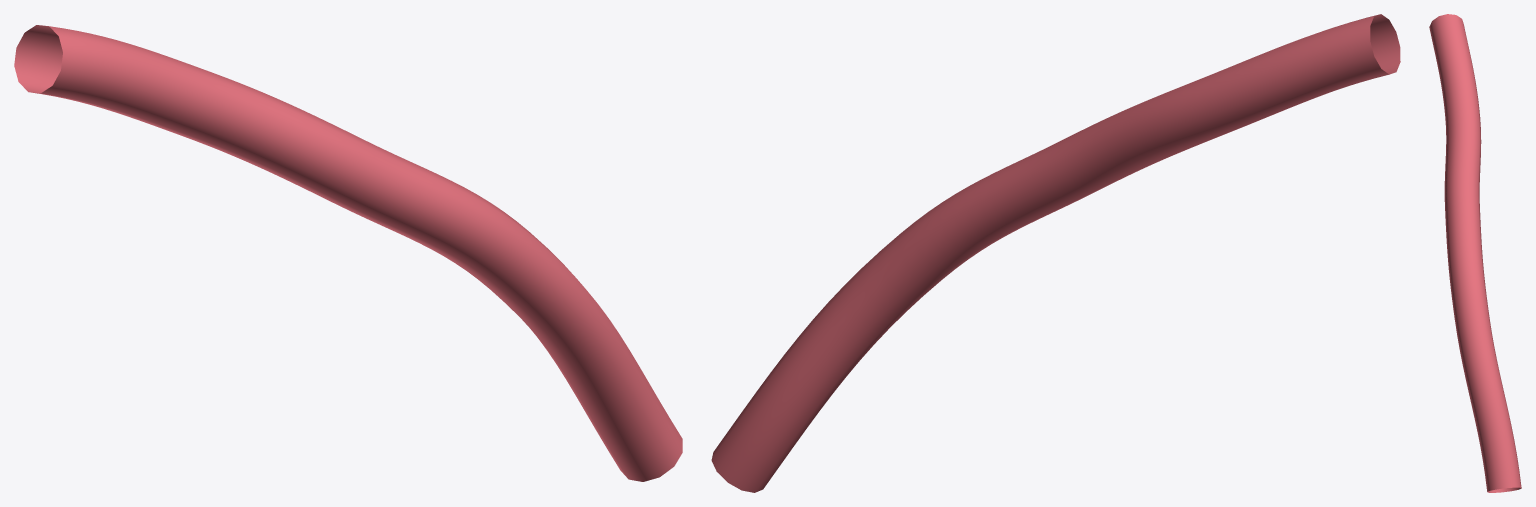
The picture shows the model from 3 angles, left to right: view 1: azimuth 30°, elevation 25°; view 2: azimuth 150°, elevation 25°; view 3: azimuth 270°, elevation 25°; orthographic projection. The views are drawn at different scales.
Visible parts, largest first — view 1: ZA_09b21b7a5bdc1426; view 2: ZA_09b21b7a5bdc1426; view 3: ZA_09b21b7a5bdc1426.
Part boxes in pixels (<box>): ZA_09b21b7a5bdc1426: <box>14,25,682,481</box>; ZA_09b21b7a5bdc1426: <box>711,14,1400,492</box>; ZA_09b21b7a5bdc1426: <box>1429,14,1521,492</box>.
Bounding box in the file's own units: 0.0583 × 0.0509 × 0.0132.
